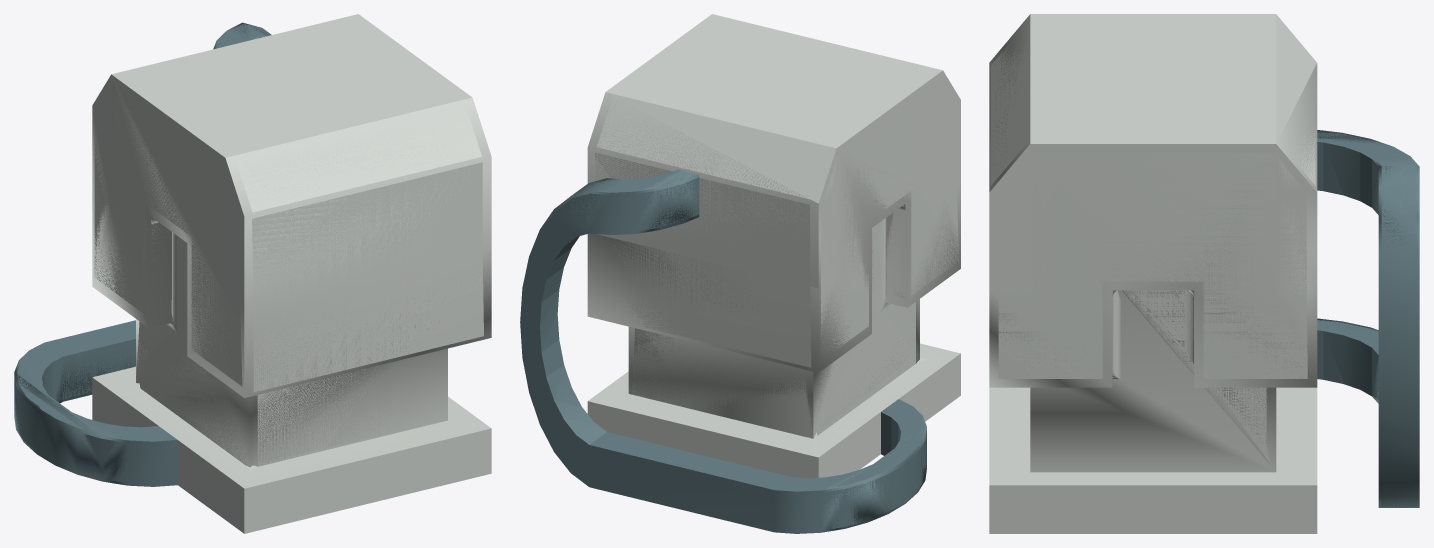
Rendered from space-kit__machine_generator.glb.
The picture shows the model from 3 angles, left to right: view 1: azimuth 30°, elevation 25°; view 2: azimuth 150°, elevation 25°; view 3: azimuth 270°, elevation 25°; orthographic projection. The views are drawn at different scales.
Visible parts, largest first — view 1: L0_metal, L1_metal, L1_dark, L0_dark; view 2: L0_metal, L1_metal, L0_dark, L1_dark; view 3: L0_metal, L1_metal, L0_dark, L1_dark.
Boxes of the visible parts, x1,y1,x2,y2 form: L0_metal: (94, 19, 483, 529); L1_metal: (92, 14, 491, 533); L1_dark: (14, 22, 271, 486); L0_dark: (14, 23, 270, 483); L0_metal: (594, 18, 958, 478); L1_metal: (587, 14, 960, 477); L0_dark: (522, 172, 926, 532); L1_dark: (520, 169, 926, 533); L0_metal: (990, 18, 1315, 532); L1_metal: (989, 14, 1317, 533); L0_dark: (1317, 131, 1416, 507); L1_dark: (1317, 130, 1419, 507).
Bounding box in the file's own units: 1 × 1 × 1.
